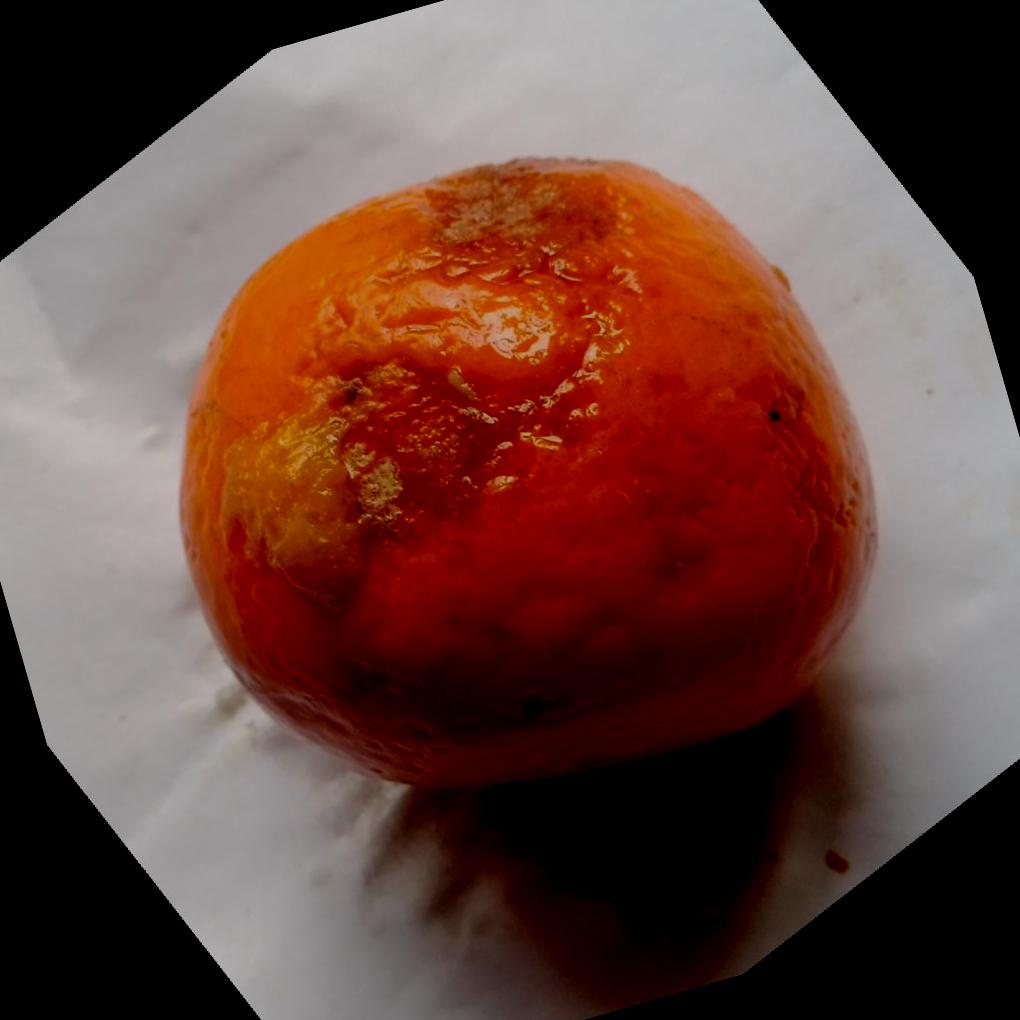FreshOrange: (179, 153, 882, 790)
